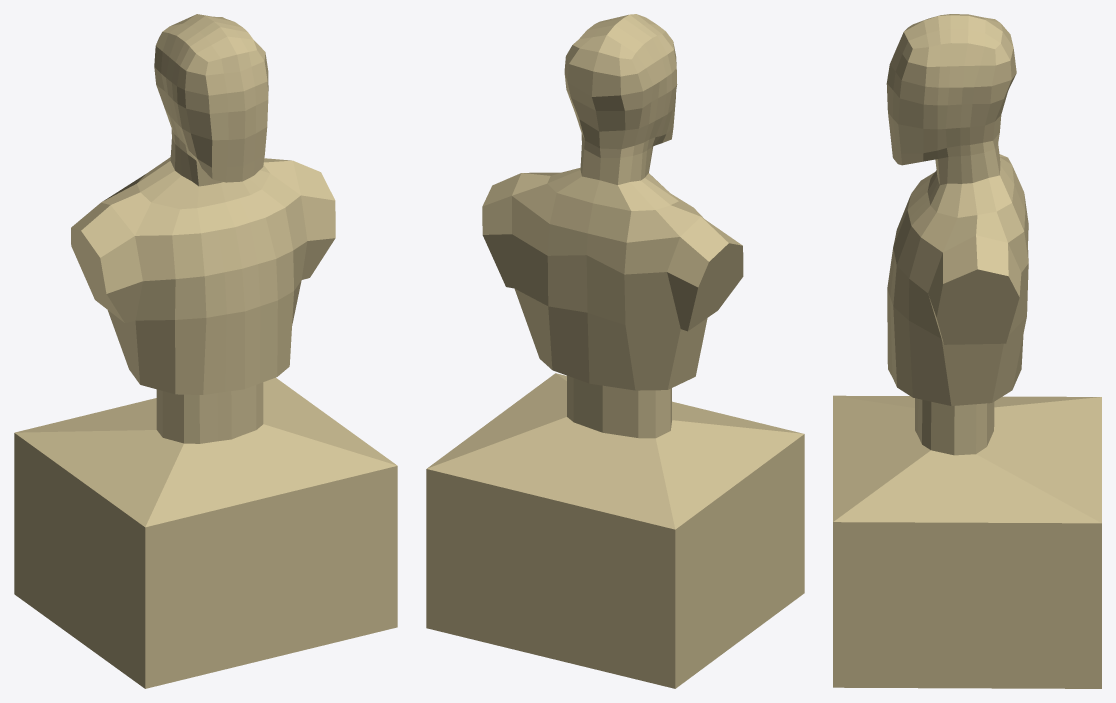
Rendered from deco_bust.fbx.
The picture shows the model from 3 angles, left to right: view 1: azimuth 30°, elevation 25°; view 2: azimuth 150°, elevation 25°; view 3: azimuth 270°, elevation 25°; orthographic projection. The views are drawn at different scales.
Visible parts, largest first — view 1: bust; view 2: bust; view 3: bust.
Boxes of the visible parts, x1=… form: bust: x1=14, y1=14, x2=397, y2=688; bust: x1=426, y1=14, x2=804, y2=688; bust: x1=833, y1=14, x2=1101, y2=688.
Size of the model in its own units: 49.7 by 112 by 44.67.
